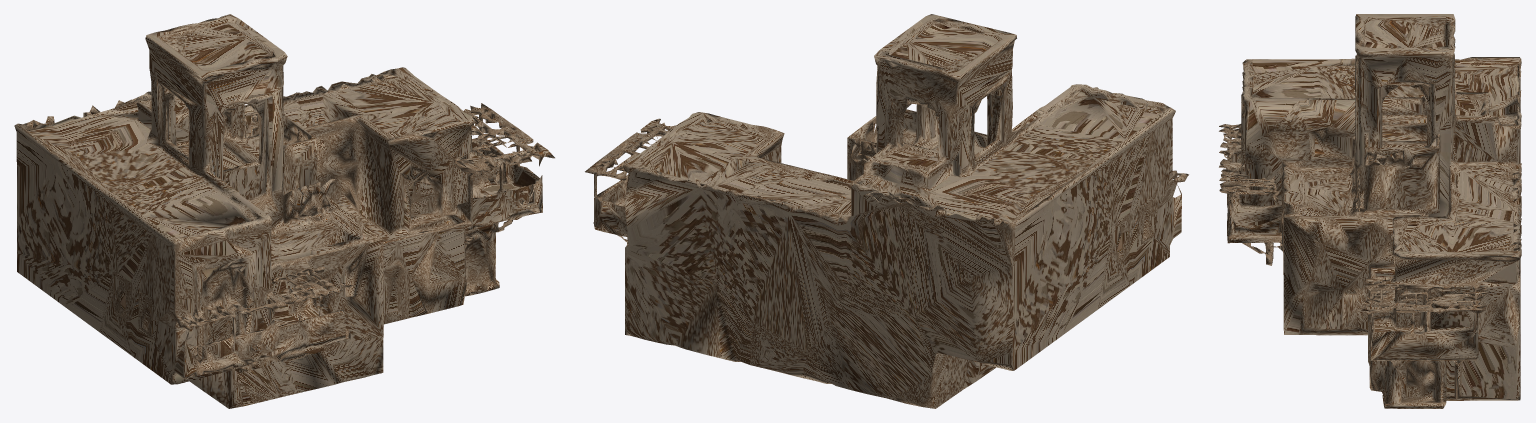
File: lagoon_b_lod1.glb
3 renders of one model, left to right at view 1: azimuth 30°, elevation 25°; view 2: azimuth 150°, elevation 25°; view 3: azimuth 270°, elevation 25°, orthographic. The views are drawn at different scales.
Size of the model in its own units: 1.98 by 1.27 by 1.33.
Materials: 1 (1 with a texture image).
